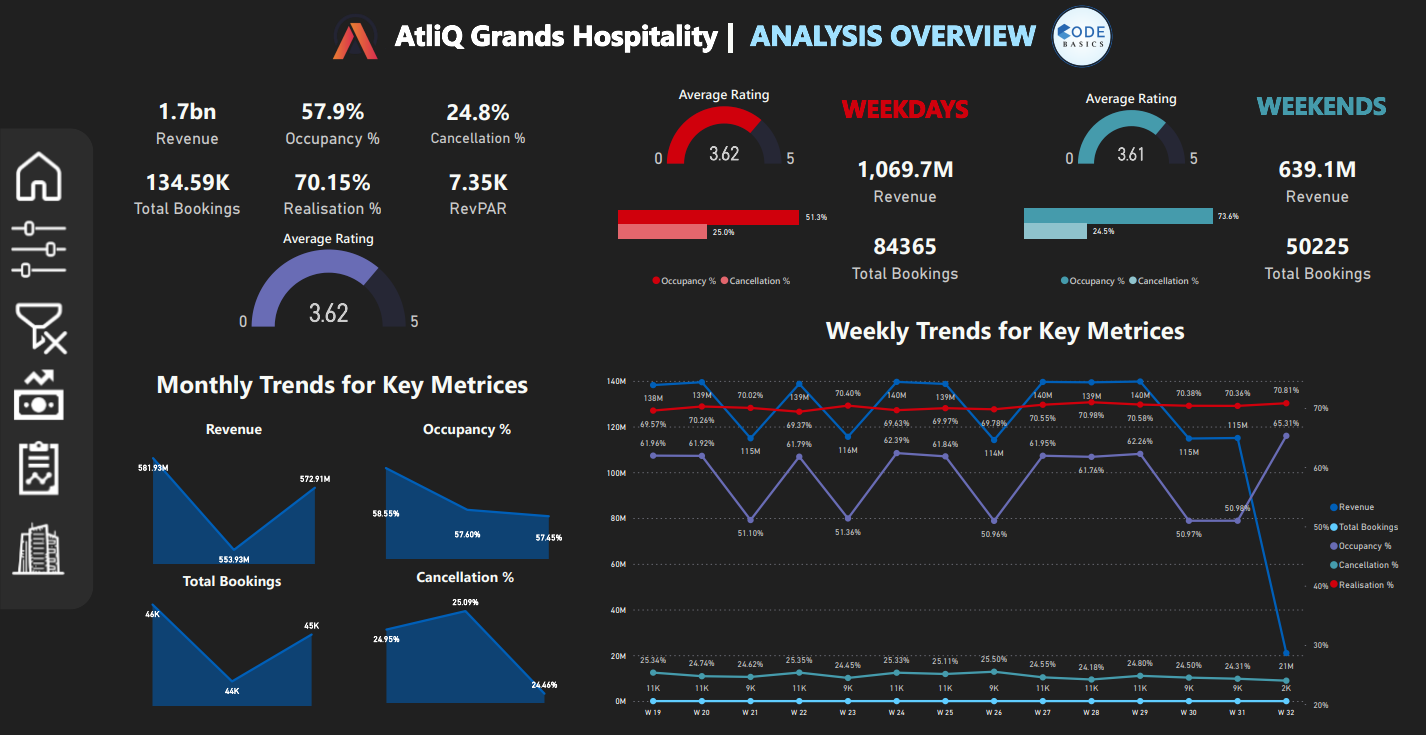

The dashboard page shown, as its layout file describes it:
{"tool":"powerbi","page":{"name":"Overview","canvas":[1890,970],"ordinal":0},"visuals":[{"type":"group","id":"g1","title":"AO Heading","box":[417.5,0,1060.4,96],"z":0},{"type":"image","title":"AtliQ Logo","box":[417.5,0,98.2,96],"z":0,"group":"g1"},{"type":"textbox","title":"WEEKENDS","box":[1640.5,110.7,208,77.7],"z":0,"group":"g4"},{"type":"card","title":"Revenue","fields":{"Values":["Metrics.Revenue"]},"box":[150.9,112.5,192,92.9],"z":0,"group":"g2"},{"type":"textbox","title":"WEEKDAYS","box":[1098.6,115.4,192.8,67.8],"z":0,"group":"g3"},{"type":"textbox","title":"Weekly Trends for Key Metrices Heading","box":[793.1,406.9,1067.4,65.8],"z":0,"group":"g6"},{"type":"textbox","title":"Trends for Key Metrices Heading","box":[146.3,477.7,610.9,64.8],"z":0,"group":"g5"},{"type":"image","title":"Codebasics Logo","box":[1379.7,0,98.2,96],"z":1000,"group":"g1"},{"type":"gauge","fields":{"Y":["Metrics.Average Rating"]},"box":[811.4,112,288.7,113.8],"z":1000,"group":"g3"},{"type":"card","title":"Occupancy %","fields":{"Values":["Metrics.Occupancy %"]},"box":[342.9,112.5,192,92.9],"z":1000,"group":"g2"},{"type":"gauge","fields":{"Y":["Metrics.Average Rating"]},"box":[1346.3,116.6,294,109.1],"z":1000,"group":"g4"},{"type":"shape","title":"Side Panel RC","box":[0,169.1,123.4,635.4],"z":1000,"group":"g7"},{"type":"lineChart","title":"Weekly Key Metrices Line Chart","fields":{"Category":["dim_date.week no"],"Y":["Metrics.Revenue","Metrics.Total Bookings"],"Y2":["Metrics.Occupancy %","Metrics.Cancellation Rate %","Metrics.Realisation %"]},"box":[795.1,484.9,1065.1,468.6],"z":1000,"group":"g6"},{"type":"areaChart","title":"Revenue","fields":{"Y":["Metrics.Revenue"],"Category":["dim_date.month_name"]},"box":[154.8,551.5,308.6,196.6],"z":1000,"group":"g5"},{"type":"textbox","title":"AGH AO Heading","box":[509.1,15.3,870.5,65.5],"z":2000,"group":"g1"},{"type":"card","title":"Cancellation Rate %","fields":{"Values":["Metrics.Cancellation %"]},"box":[534.9,112.5,192,92.9],"z":2000,"group":"g2"},{"type":"actionButton","title":"Home","box":[0,189.7,100.6,86.9],"z":2000,"group":"g7"},{"type":"clusteredBarChart","fields":{"Category":["dim_date.day_type"],"Y":["Metrics.Occupancy Value","Metrics.Cancellation Value"]},"box":[1346.3,220.3,294,167.6],"z":2000,"group":"g4"},{"type":"clusteredBarChart","fields":{"Category":["dim_date.day_type"],"Y":["Metrics.Occupancy Value","Metrics.Cancellation Value"]},"box":[811.4,223.8,286.2,164.1],"z":2000,"group":"g3"},{"type":"stackedAreaChart","title":"Occupancy %","fields":{"Y":["Metrics.Occupancy %"],"Category":["dim_date.month_name"]},"box":[461.1,551.5,310.9,189.7],"z":2000,"group":"g5"},{"type":"group","id":"g2","title":"Main Metrics Card","box":[150.9,112.5,576,329.1],"z":3000},{"type":"card","title":"Revenue","fields":{"Values":["Metrics.Revenue"]},"box":[1098.6,183.2,192.8,103.7],"z":3000,"group":"g3"},{"type":"card","title":"Revenue","fields":{"Values":["Metrics.Revenue"]},"box":[1640.5,186.1,196.6,98.3],"z":3000,"group":"g4"},{"type":"card","title":"Total Bookings","fields":{"Values":["Metrics.Total Bookings"]},"box":[150.9,205.4,192,92.9],"z":3000,"group":"g2"},{"type":"actionButton","title":"Filter","box":[0,285.7,100.6,86.9],"z":3000,"group":"g7"},{"type":"areaChart","title":"Total Bookings","fields":{"Category":["dim_date.month_name"],"Y":["Metrics.Total Bookings"]},"box":[154.8,752.6,304,182.9],"z":3000,"group":"g5"},{"type":"group","id":"g3","title":"Weekdays Metrics","box":[811.4,112,480,276.6],"z":4000},{"type":"card","title":"Realisation %","fields":{"Values":["Metrics.Realisation %"]},"box":[342.9,205.4,192,92.9],"z":4000,"group":"g2"},{"type":"card","title":"Total Bookings","fields":{"Values":["Metrics.Total Bookings"]},"box":[1640.7,284.3,198,104.3],"z":4000,"group":"g4"},{"type":"card","title":"Total Bookings","fields":{"Values":["Metrics.Total Bookings"]},"box":[1098.6,284.8,192.8,103.7],"z":4000,"group":"g3"},{"type":"areaChart","title":"Cancellation %","fields":{"Y":["Metrics.Cancellation Rate %"],"Category":["dim_date.month_name"]},"box":[463.4,748.1,301.7,182.9],"z":4000,"group":"g5"},{"type":"group","id":"g4","title":"Weekend Metrics","box":[1346.3,110.7,502.2,277.9],"z":5000},{"type":"card","title":"RevPAR","fields":{"Values":["Metrics.RevPAR"]},"box":[534.9,205.4,192,92.9],"z":5000,"group":"g2"},{"type":"actionButton","title":"Clear Filter","box":[0,386.2,100.6,86.9],"z":5000,"group":"g7"},{"type":"gauge","fields":{"Y":["Metrics.Average Rating"]},"box":[292,301.2,282.5,140.5],"z":6000,"group":"g2"},{"type":"actionButton","title":"RA","box":[0,477.7,100.6,86.9],"z":6000,"group":"g7"},{"type":"group","id":"g5","title":"Monthly Key Metrices Trends","box":[146.3,477.7,625.6,457.8],"z":6000},{"type":"group","id":"g6","title":"Weekly Key Metrices Trends","box":[793.1,406.9,1067.4,546.6],"z":7000},{"type":"actionButton","title":"BA","box":[0,575.9,100.7,85.7],"z":7000,"group":"g7"},{"type":"actionButton","title":"PA","box":[0,681.1,100.6,86.9],"z":8000,"group":"g7"},{"type":"group","id":"g7","title":"Side Panel","box":[0,169.1,125.1,636.7],"z":17501}]}

Visuals, with their boxes in screenshot pixels (x1, y1, x2, y2), scaled from the page's 1890x970 canvas onto the 1426x735 screenshot:
"AO Heading" group: bbox=[315, 0, 1115, 73]
"AtliQ Logo" image: bbox=[315, 0, 389, 73]
"WEEKENDS" textbox: bbox=[1238, 84, 1395, 143]
"Revenue" card: bbox=[114, 85, 259, 156]
"WEEKDAYS" textbox: bbox=[829, 87, 974, 139]
"Weekly Trends for Key Metrices Heading" textbox: bbox=[598, 308, 1404, 358]
"Trends for Key Metrices Heading" textbox: bbox=[110, 362, 571, 411]
"Codebasics Logo" image: bbox=[1041, 0, 1115, 73]
gauge - Metrics.Average Rating: bbox=[612, 85, 830, 171]
"Occupancy %" card: bbox=[259, 85, 404, 156]
gauge - Metrics.Average Rating: bbox=[1016, 88, 1238, 171]
"Side Panel RC" shape: bbox=[0, 128, 93, 610]
"Weekly Key Metrices Line Chart" lineChart: bbox=[600, 367, 1404, 722]
"Revenue" areaChart: bbox=[117, 418, 350, 567]
"AGH AO Heading" textbox: bbox=[384, 12, 1041, 61]
"Cancellation Rate %" card: bbox=[404, 85, 548, 156]
"Home" actionButton: bbox=[0, 144, 76, 210]
clusteredBarChart - dim_date.day_type x Metrics.Occupancy Value: bbox=[1016, 167, 1238, 294]
clusteredBarChart - dim_date.day_type x Metrics.Occupancy Value: bbox=[612, 170, 828, 294]
"Occupancy %" stackedAreaChart: bbox=[348, 418, 582, 562]
"Main Metrics Card" group: bbox=[114, 85, 548, 335]
"Revenue" card: bbox=[829, 139, 974, 217]
"Revenue" card: bbox=[1238, 141, 1386, 215]
"Total Bookings" card: bbox=[114, 156, 259, 226]
"Filter" actionButton: bbox=[0, 216, 76, 282]
"Total Bookings" areaChart: bbox=[117, 570, 346, 709]
"Weekdays Metrics" group: bbox=[612, 85, 974, 294]
"Realisation %" card: bbox=[259, 156, 404, 226]
"Total Bookings" card: bbox=[1238, 215, 1387, 294]
"Total Bookings" card: bbox=[829, 216, 974, 294]
"Cancellation %" areaChart: bbox=[350, 567, 577, 705]
"Weekend Metrics" group: bbox=[1016, 84, 1395, 294]
"RevPAR" card: bbox=[404, 156, 548, 226]
"Clear Filter" actionButton: bbox=[0, 293, 76, 358]
gauge - Metrics.Average Rating: bbox=[220, 228, 433, 335]
"RA" actionButton: bbox=[0, 362, 76, 428]
"Monthly Key Metrices Trends" group: bbox=[110, 362, 582, 709]
"Weekly Key Metrices Trends" group: bbox=[598, 308, 1404, 722]
"BA" actionButton: bbox=[0, 436, 76, 501]
"PA" actionButton: bbox=[0, 516, 76, 582]
"Side Panel" group: bbox=[0, 128, 94, 611]
